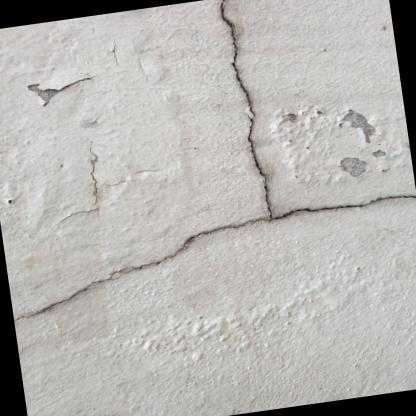crack: (13, 0, 416, 325)
